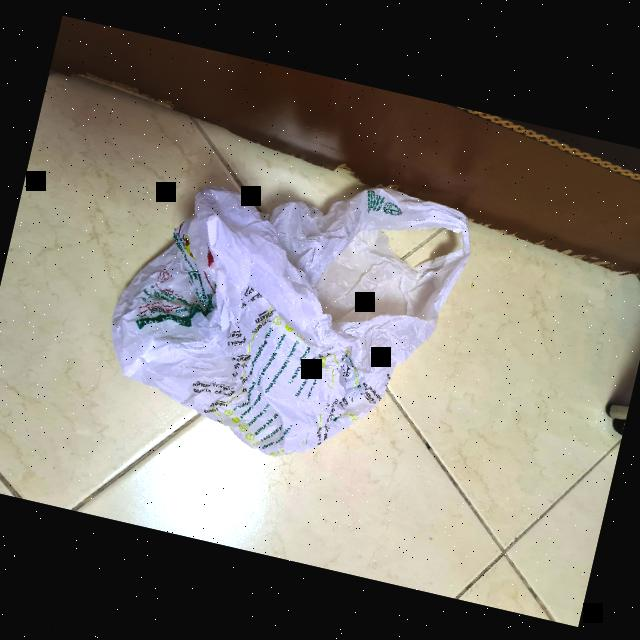plastic_bag: (77, 118, 492, 500)
